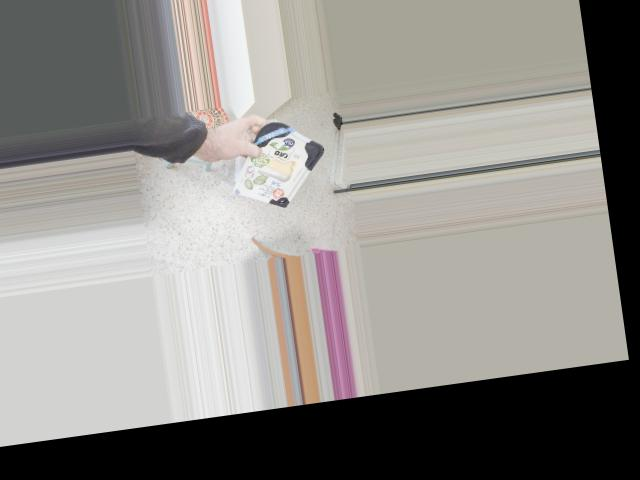cheese: (231, 111, 330, 221)
